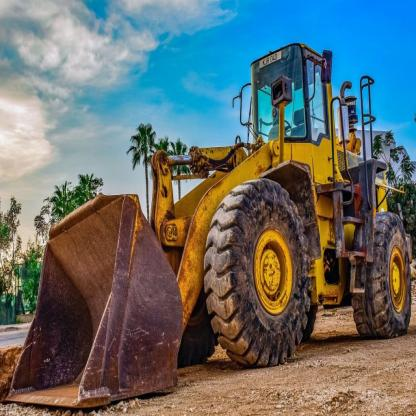bull_dozer/loader/grader: (6, 32, 410, 415)
